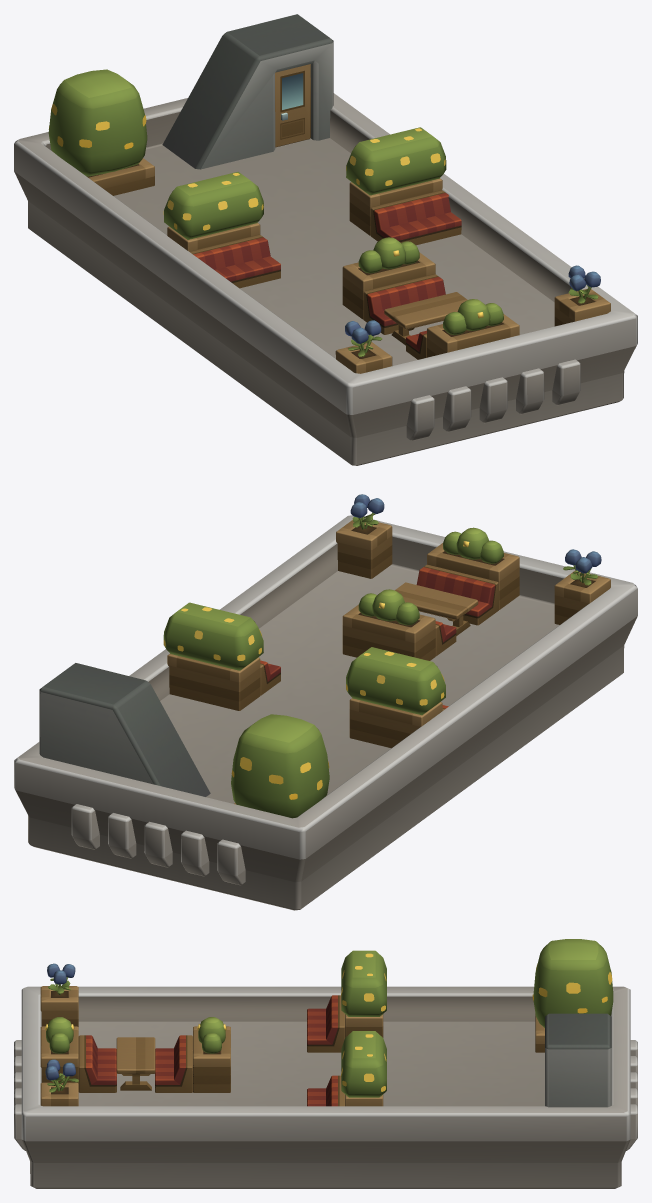
Rendered from office_building_type2_roof_grey_deco.fbx.
The picture shows the model from 3 angles, top to bottom: view 1: azimuth 30°, elevation 25°; view 2: azimuth 150°, elevation 25°; view 3: azimuth 270°, elevation 25°; orthographic projection. The views are drawn at different scales.
Parts seen in each view (by area): view 1: office_building_type2_roof_grey_deco, door_office_building_type2_roof_grey_deco; view 2: office_building_type2_roof_grey_deco; view 3: office_building_type2_roof_grey_deco.
Boxes of the visible parts, left/top/right/bottom form: office_building_type2_roof_grey_deco: left=14, top=14, right=637, bottom=465; door_office_building_type2_roof_grey_deco: left=275, top=64, right=310, bottom=147; office_building_type2_roof_grey_deco: left=14, top=494, right=637, bottom=910; office_building_type2_roof_grey_deco: left=14, top=939, right=637, bottom=1188.
Size of the model in its own units: 800 by 413 by 1640.
